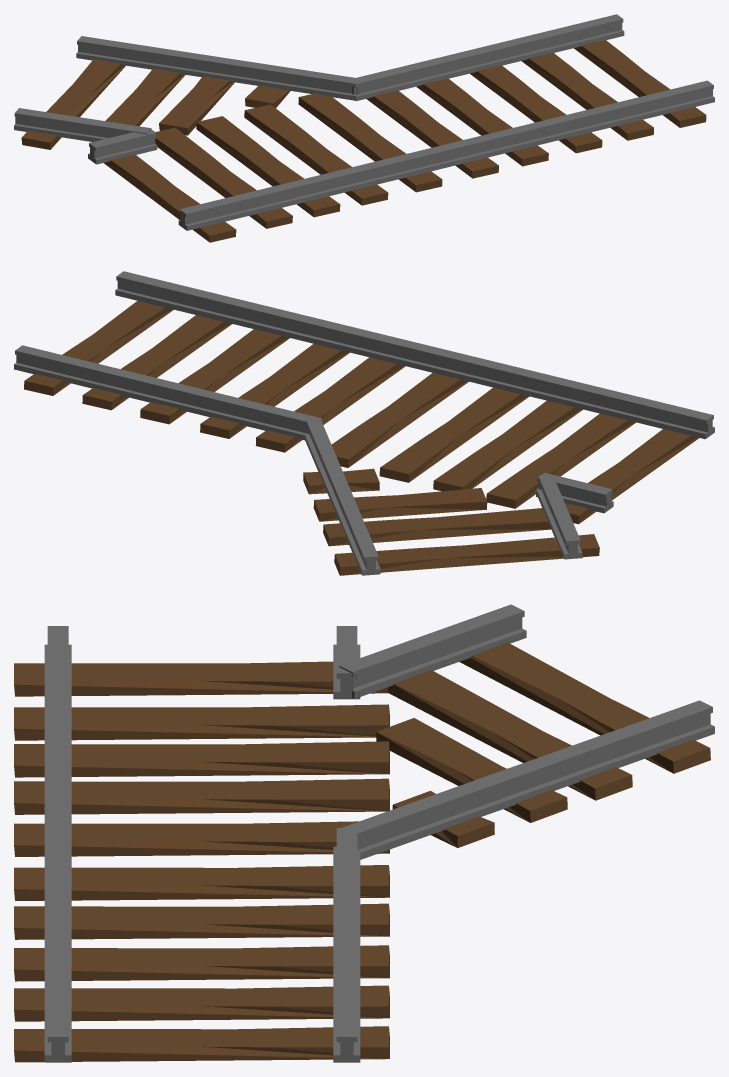
The model's file is Prop_Rail_Road_Cart_Train_Split_01.fbx.
The picture shows the model from 3 angles, top to bottom: view 1: azimuth 30°, elevation 25°; view 2: azimuth 150°, elevation 25°; view 3: azimuth 270°, elevation 25°; orthographic projection. The views are drawn at different scales.
Parts seen in each view (by area): view 1: Prop_Rail_Road_Cart_Train_Split_01; view 2: Prop_Rail_Road_Cart_Train_Split_01; view 3: Prop_Rail_Road_Cart_Train_Split_01.
Boxes of the visible parts, box(x1,y1,x2,y2) form: Prop_Rail_Road_Cart_Train_Split_01: box(14, 14, 714, 242); Prop_Rail_Road_Cart_Train_Split_01: box(14, 271, 714, 575); Prop_Rail_Road_Cart_Train_Split_01: box(14, 604, 714, 1062).
Size of the model in its own units: 122 by 5.38 by 83.13.
